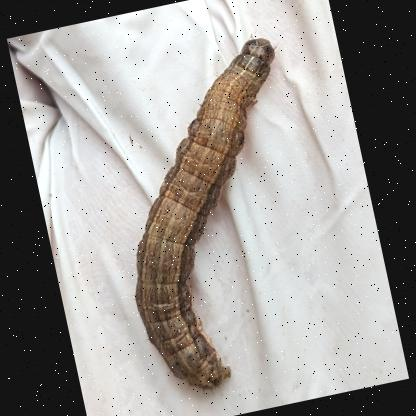Fall Armyworm Larvae: (77, 21, 354, 411)
